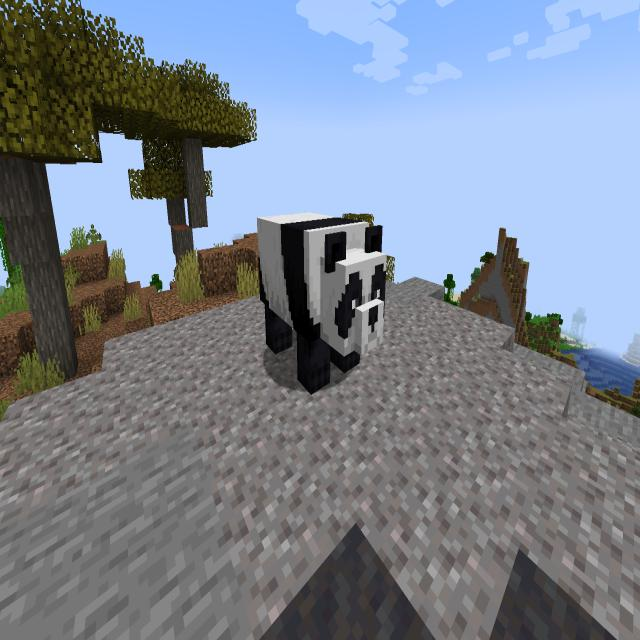Panda: (252, 206, 395, 410)
